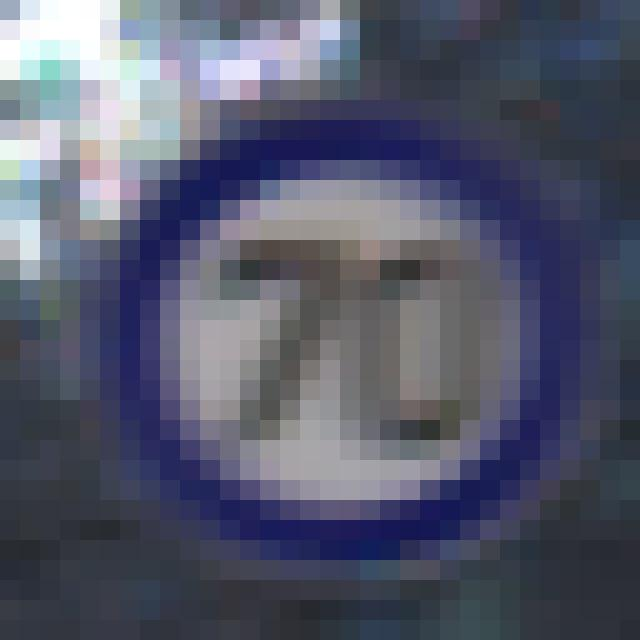SPEED LIMIT 70: (120, 177, 588, 559)
